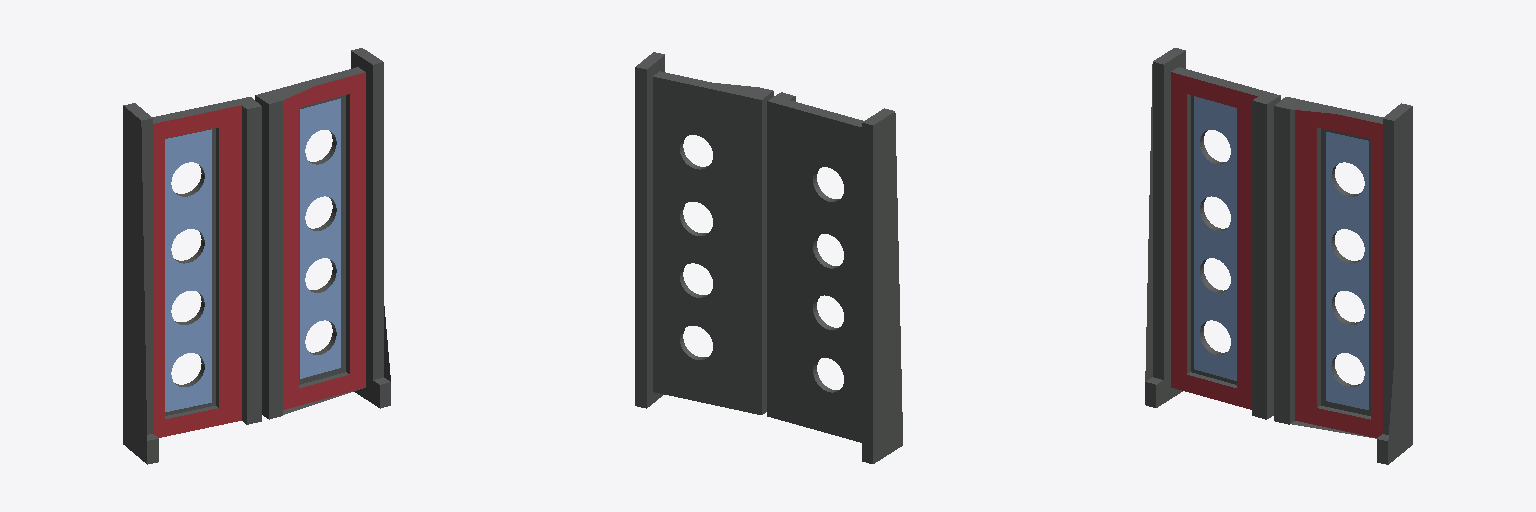
The model's file is DWindow.obj.
The picture shows the model from 3 angles: view 1: azimuth 30°, elevation 25°; view 2: azimuth 150°, elevation 25°; view 3: azimuth 330°, elevation 25°; orthographic projection.
Visible parts, largest first — view 1: Mesh2 Model, Mesh1 Model; view 2: Mesh2 Model, Mesh1 Model; view 3: Mesh1 Model, Mesh2 Model.
Boxes of the visible parts, x1=… form: Mesh2 Model: x1=123, y1=97, x2=261, y2=464; Mesh1 Model: x1=255, y1=48, x2=390, y2=419; Mesh2 Model: x1=767, y1=92, x2=902, y2=463; Mesh1 Model: x1=635, y1=52, x2=773, y2=414; Mesh1 Model: x1=1274, y1=97, x2=1412, y2=464; Mesh2 Model: x1=1145, y1=48, x2=1280, y2=419.
Size of the model in its own units: 4.05 by 5.39 by 0.792.